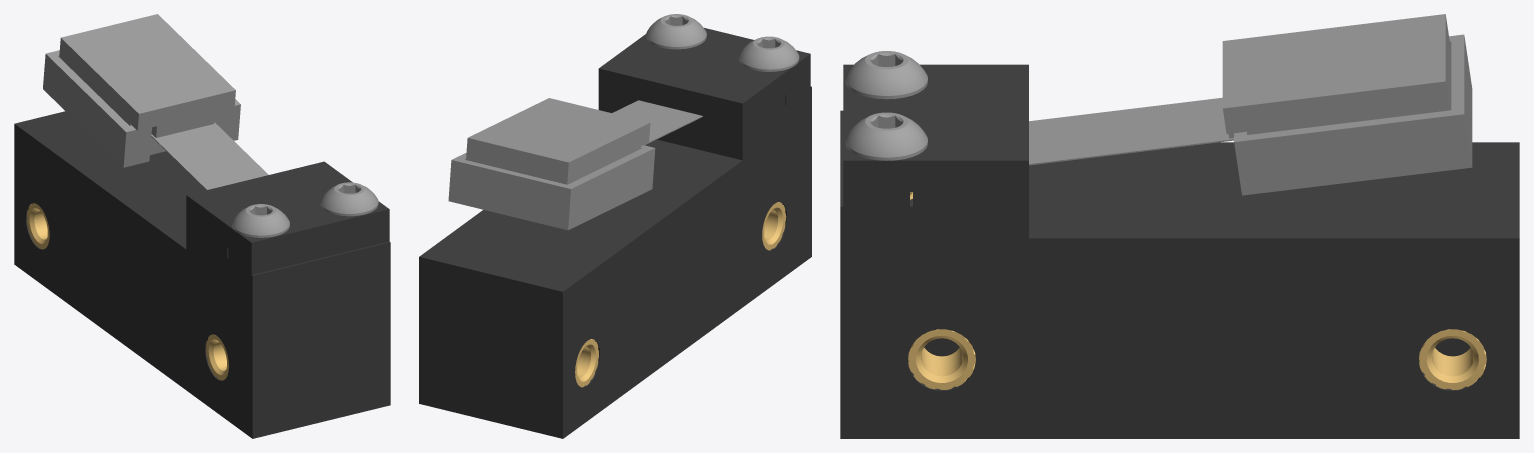
The model's file is Blocker - Spring Steel.gltf.
3 views of the same model, side by side, from view 1: azimuth 30°, elevation 25°; view 2: azimuth 150°, elevation 25°; view 3: azimuth 270°, elevation 25° (orthographic). The views are drawn at different scales.
Parts seen in each view (by area): view 1: Spring Steel Body, Silicone Jig, Clamp, Silicone Jig001, Spring Steel, M3x8 BHCS001, M3x8 BHCS, Heat Insert003, Heat Insert001; view 2: Spring Steel Body, Clamp, Silicone Jig, Silicone Jig001, M3x8 BHCS, M3x8 BHCS001, Spring Steel, Heat Insert001, Heat Insert003; view 3: Spring Steel Body, Silicone Jig, Clamp, Silicone Jig001, Spring Steel, M3x8 BHCS001, M3x8 BHCS, Heat Insert005, Heat Insert.
Boxes of the visible parts, bbox=[...] form: Spring Steel Body: bbox=[14, 111, 390, 438]; Silicone Jig: bbox=[59, 14, 235, 137]; Clamp: bbox=[186, 161, 389, 274]; Silicone Jig001: bbox=[43, 50, 240, 167]; Spring Steel: bbox=[151, 122, 268, 190]; M3x8 BHCS001: bbox=[320, 182, 378, 216]; M3x8 BHCS: bbox=[232, 204, 289, 237]; Heat Insert003: bbox=[27, 203, 49, 249]; Heat Insert001: bbox=[206, 334, 228, 380]; Spring Steel Body: bbox=[419, 86, 811, 438]; Clamp: bbox=[598, 28, 810, 126]; Silicone Jig: bbox=[466, 98, 650, 184]; Silicone Jig001: bbox=[448, 145, 655, 230]; M3x8 BHCS: bbox=[738, 36, 799, 71]; M3x8 BHCS001: bbox=[646, 14, 706, 49]; Spring Steel: bbox=[612, 100, 702, 145]; Heat Insert001: bbox=[762, 202, 786, 250]; Heat Insert003: bbox=[575, 339, 598, 387]; Spring Steel Body: bbox=[840, 110, 1519, 438]; Silicone Jig: bbox=[1222, 14, 1451, 138]; Clamp: bbox=[843, 64, 1028, 206]; Silicone Jig001: bbox=[1234, 34, 1472, 195]; Spring Steel: bbox=[1029, 97, 1233, 165]; M3x8 BHCS001: bbox=[845, 112, 927, 160]; M3x8 BHCS: bbox=[845, 51, 927, 99]; Heat Insert005: bbox=[908, 329, 975, 389]; Heat Insert: bbox=[1419, 329, 1486, 389].
Bounding box in the file's own units: 0.0157 × 0.0261 × 0.0468.
